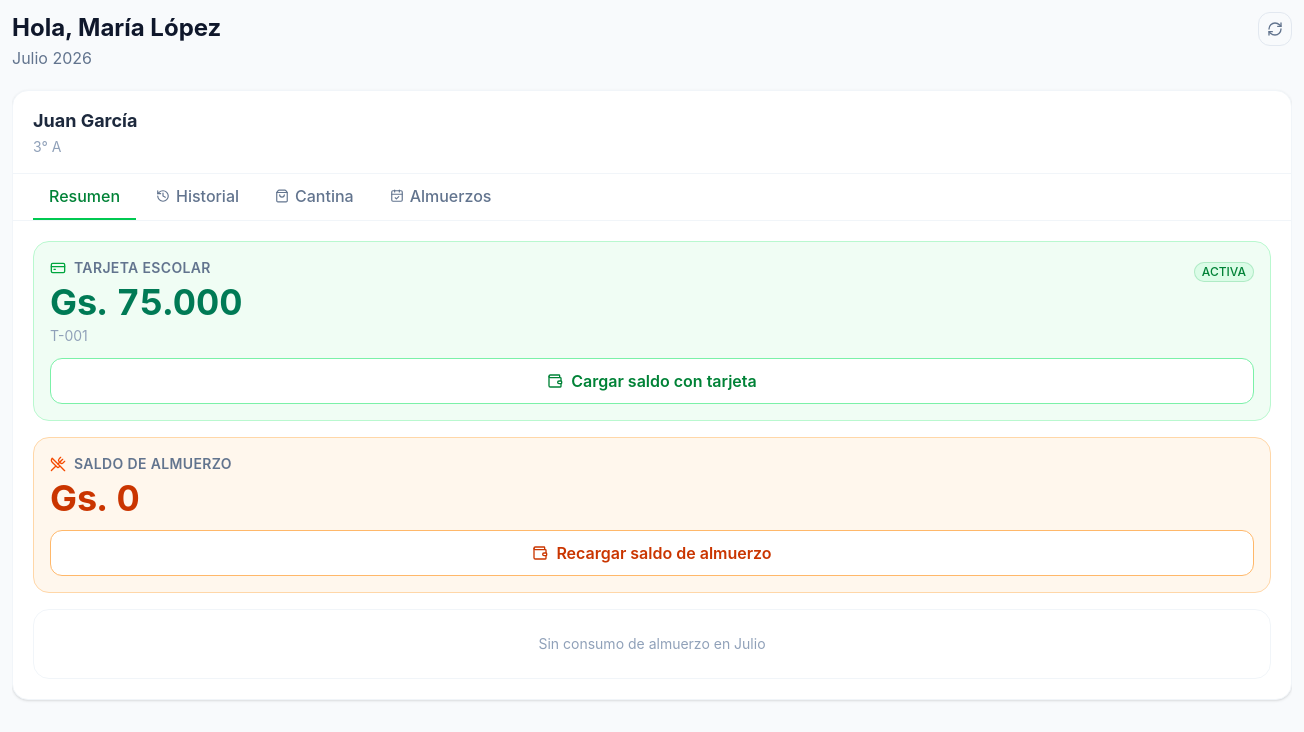
Test: PortalDashboard — tabs › tab Almuerzos → muestra "Sin ingresos al comedor" cuando total es 0
Expected: the text "Juan García" is shown, 33,110 -> 137,131
Step 1. Click the tab "Almuerzos" → (441, 197), box 374,174 -> 508,220
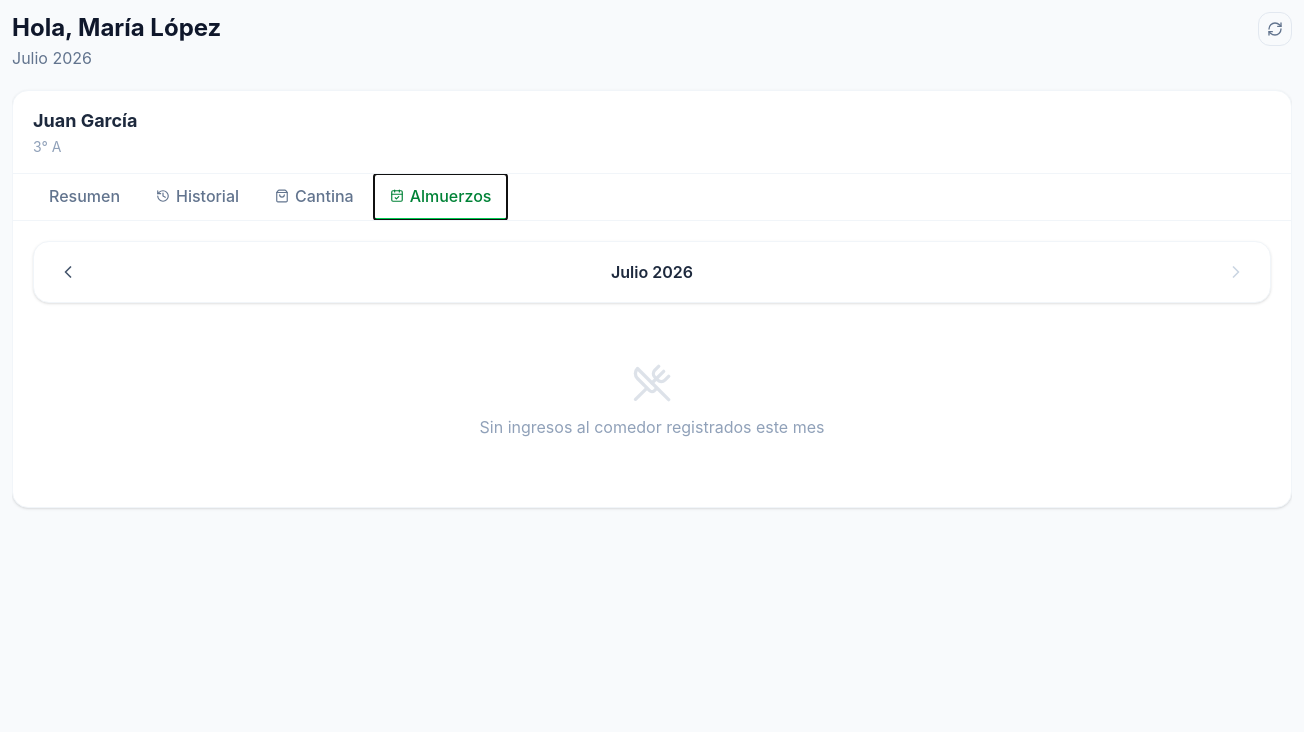
Result: the text "Sin ingresos al comedor registrados este mes" is shown at 480,417 -> 824,437
